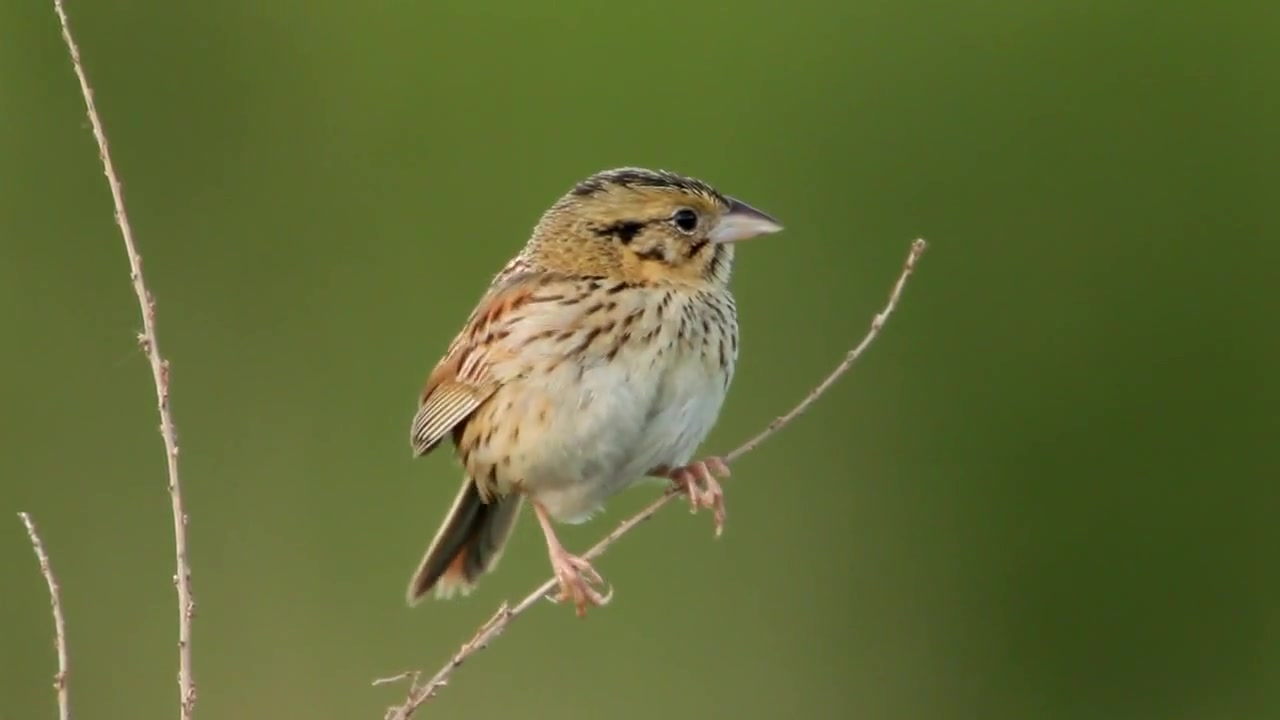bird: (406, 166, 792, 616)
